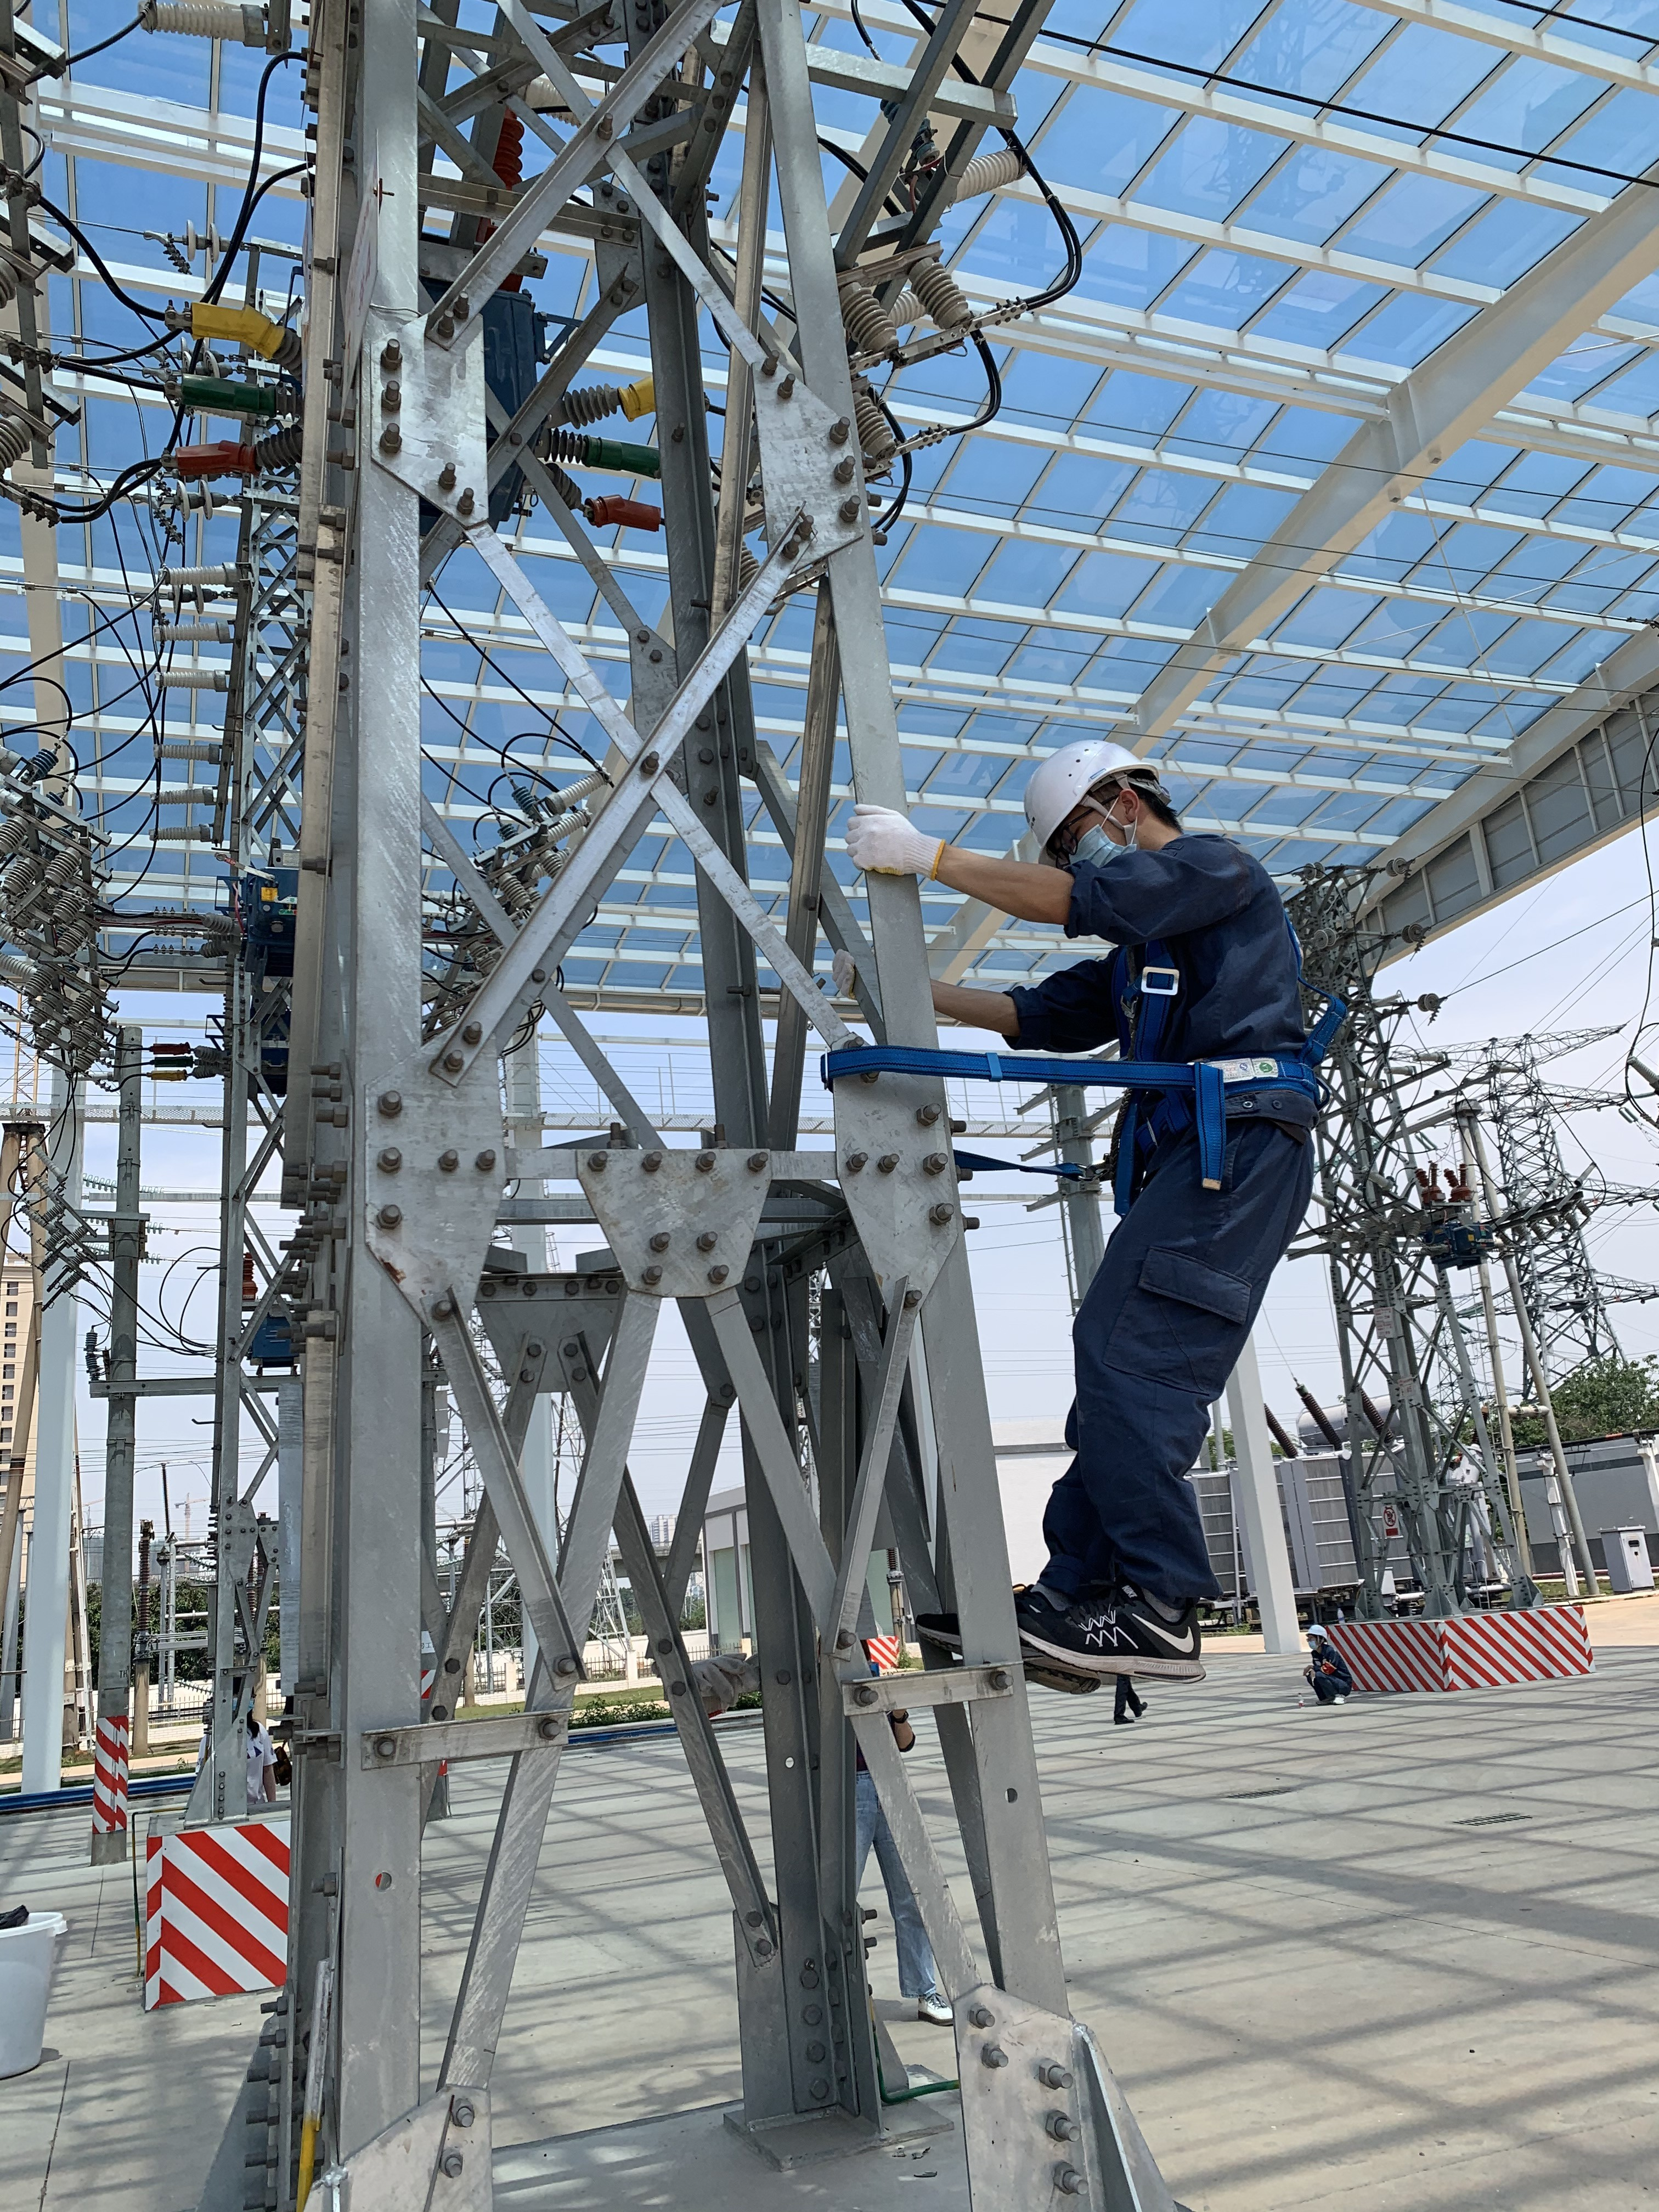downsuit: (1053, 1116, 1300, 1601)
upsuit: (1012, 838, 1305, 1122)
wrongtop: (922, 840, 1096, 1049)
